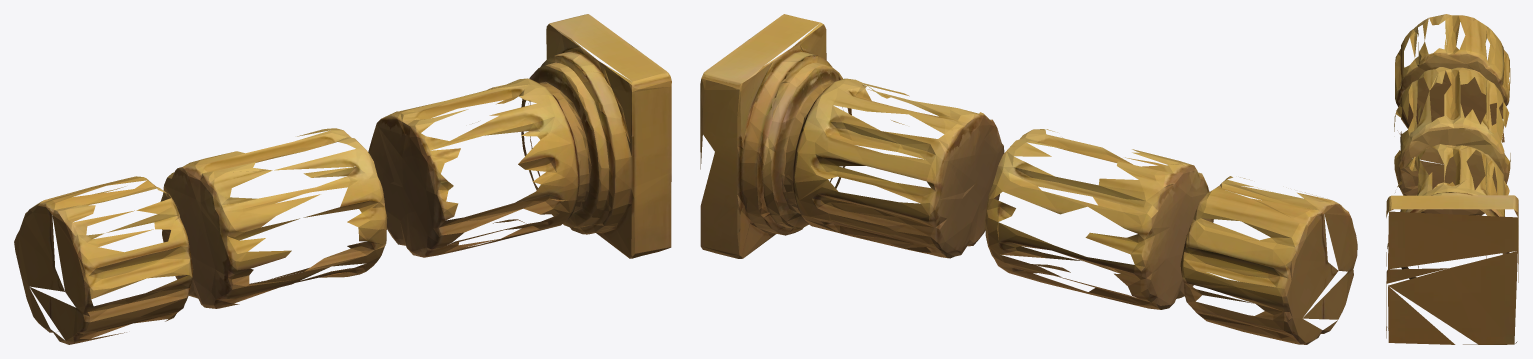
Rendered from rubble_column.glb.
3 views of the same model, side by side, from view 1: azimuth 30°, elevation 25°; view 2: azimuth 150°, elevation 25°; view 3: azimuth 270°, elevation 25° (orthographic). The views are drawn at different scales.
Visible parts, largest first — view 1: geometry_0; view 2: geometry_0; view 3: geometry_0.
Part boxes in pixels (left/top/right/bottom): geometry_0: left=14, top=14, right=671, bottom=344; geometry_0: left=700, top=14, right=1357, bottom=344; geometry_0: left=1386, top=14, right=1518, bottom=344.
Bounding box in the file's own units: 1.4 × 0.4101 × 0.3621.
1 material, 1 textured.
